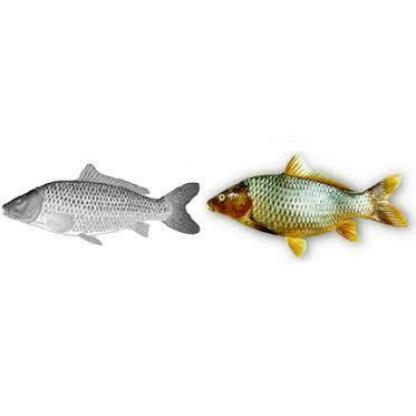ikan-mas: (208, 168, 404, 236), (2, 174, 202, 240)
